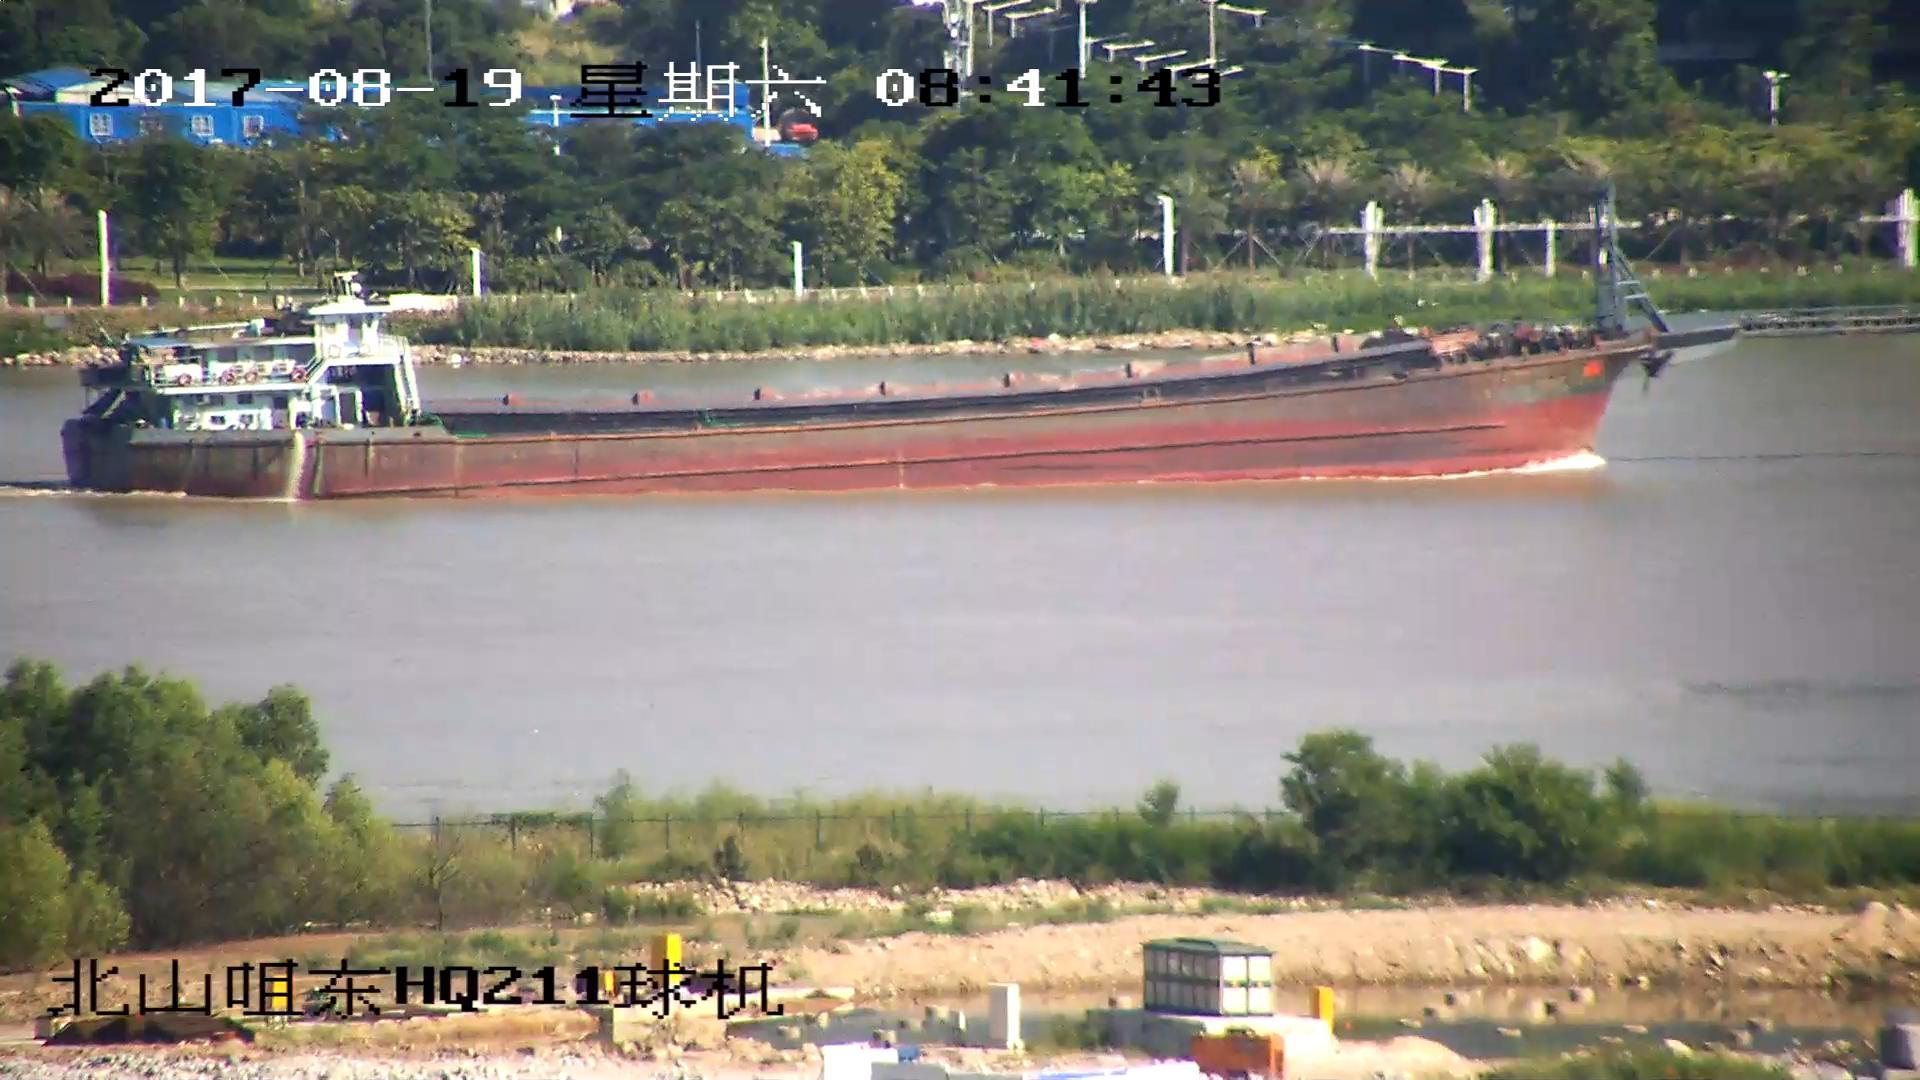Ship: (57, 191, 1920, 495)
